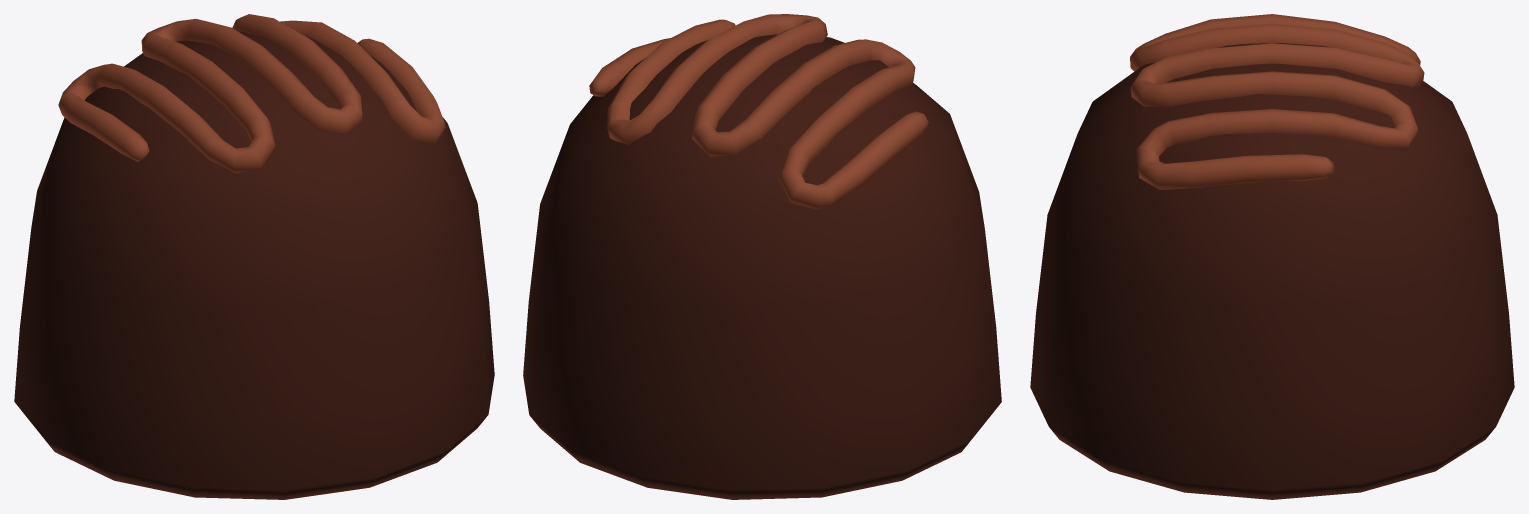
File: Candy_07.glb
3 views of the same model, side by side, from view 1: azimuth 30°, elevation 25°; view 2: azimuth 150°, elevation 25°; view 3: azimuth 270°, elevation 25° (orthographic).
Visible parts, largest first — view 1: Candy_07; view 2: Candy_07; view 3: Candy_07.
Boxes of the visible parts, <box> form: Candy_07: <box>14,14,494,499</box>; Candy_07: <box>523,14,1001,499</box>; Candy_07: <box>1030,14,1514,499</box>.
Size of the model in its own units: 1.61 by 1.32 by 1.61.
Materials: 2 (2 with a texture image).
